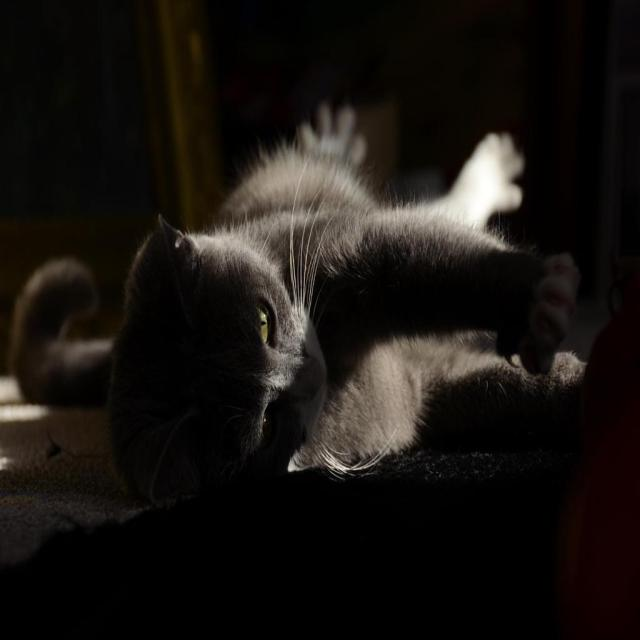Cat: (34, 150, 625, 507)
